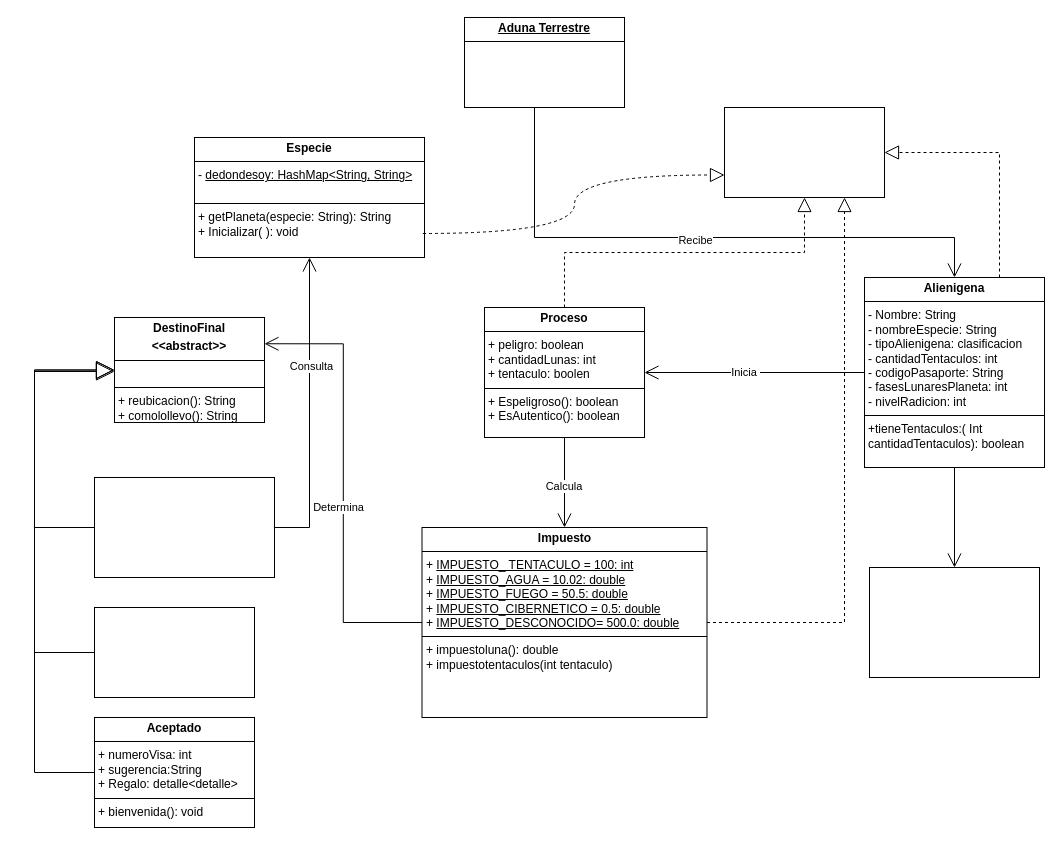
This 1062x845 diagram has some shape labels left out. The shapes that lost their labels are listed below. From the top down, each one's centre as x and y in pixels, then its label:
At (x=804, y=152): "<<interface> Main + main(): void".
At (x=184, y=527): "Deportado + lugar: String + Como: metodoTransporte + method(): Type".
At (x=954, y=622): "Tipoalienígena <<Enum>> Fuego, cibernetico, humanoides, gaseoso, Acuatico".
At (x=174, y=652): "Detencion + tipoCelda: celda".
